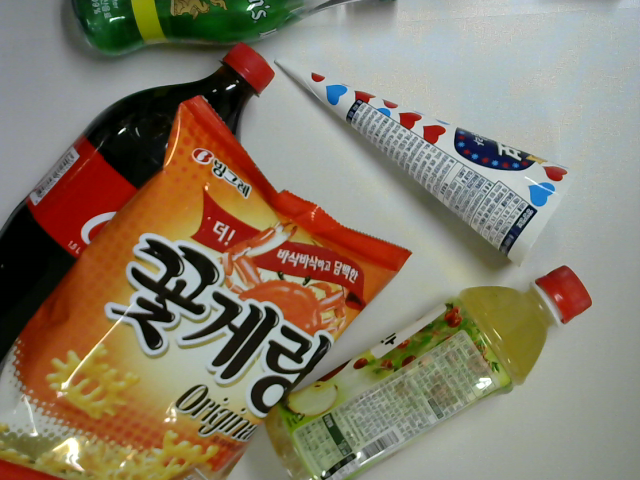Bravo_Cone_(Banila)_CVS: (269, 50, 583, 267)
Coca_Cola_1.5L: (1, 40, 282, 395)
Crabrang: (1, 91, 417, 477)
Morning_Apple_500ml: (254, 261, 601, 480)
Seagram_Lemon_Carbonated_Water: (65, 1, 405, 59)
